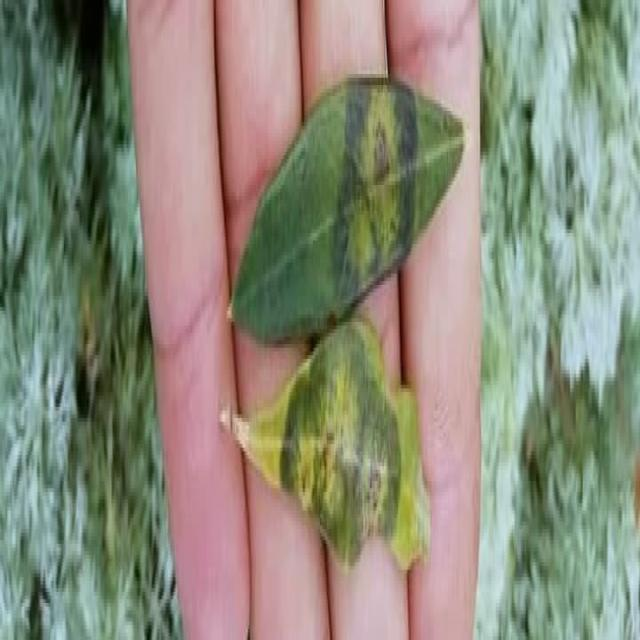OlivePeacockSpot: (234, 77, 463, 340), (222, 373, 429, 570)
